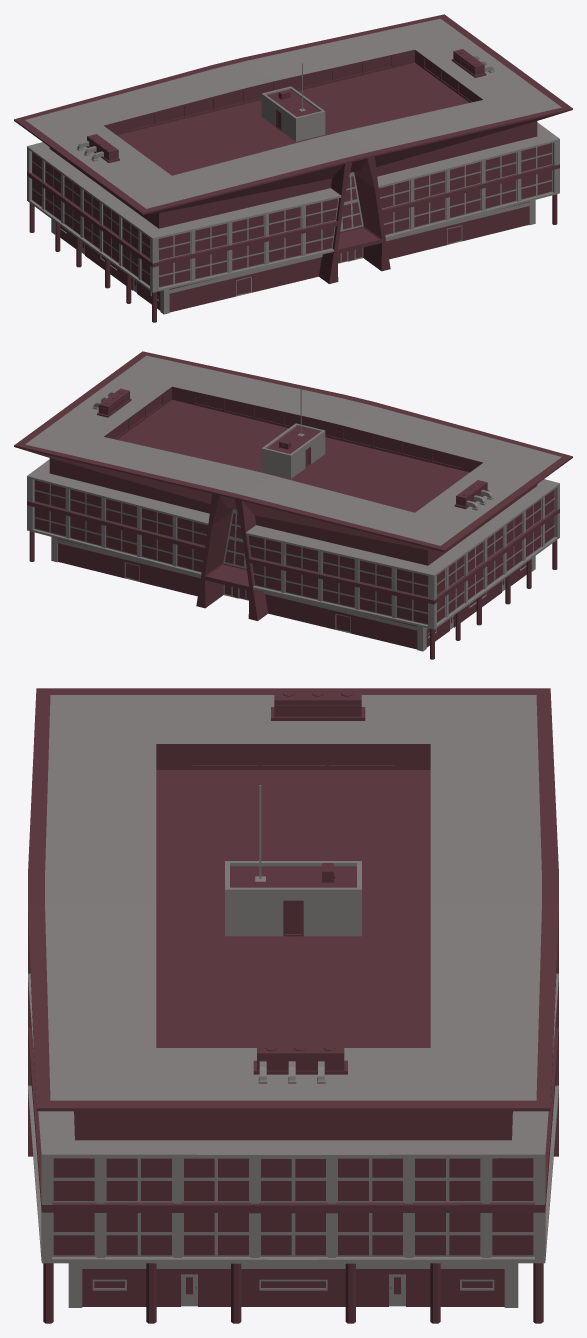
The model's file is building-train-station.fbx.
The picture shows the model from 3 angles, top to bottom: view 1: azimuth 30°, elevation 25°; view 2: azimuth 150°, elevation 25°; view 3: azimuth 270°, elevation 25°; orthographic projection. The views are drawn at different scales.
Visible parts, largest first — view 1: building-train-station; view 2: building-train-station; view 3: building-train-station.
Part boxes in pixels (x1=…): building-train-station: x1=14, y1=14, x2=572, y2=322; building-train-station: x1=14, y1=351, x2=572, y2=659; building-train-station: x1=28, y1=688, x2=558, y2=1323.
Bounding box in the file's own units: 58 × 22 × 31.
